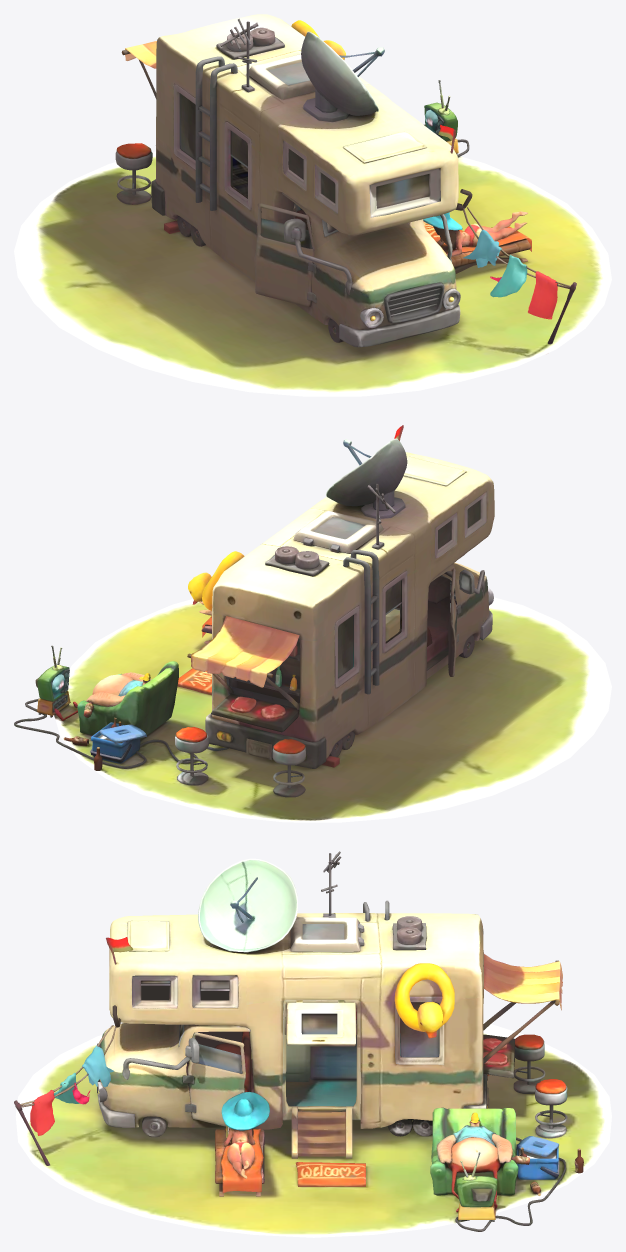
File: trailer-transformed.glb
3 renders of one model, top to bottom at view 1: azimuth 30°, elevation 25°; view 2: azimuth 150°, elevation 25°; view 3: azimuth 270°, elevation 25°, orthographic. The views are drawn at different scales.
Parts seen in each view (by area): view 1: Object_2; view 2: Object_2; view 3: Object_2.
Part boxes in pixels (bbox=[...]): Object_2: bbox=[14, 14, 611, 396]; Object_2: bbox=[14, 425, 611, 822]; Object_2: bbox=[14, 851, 611, 1237].
Bounding box in the file's own units: 6.48 × 3.31 × 6.92.
1 material, 1 textured.
